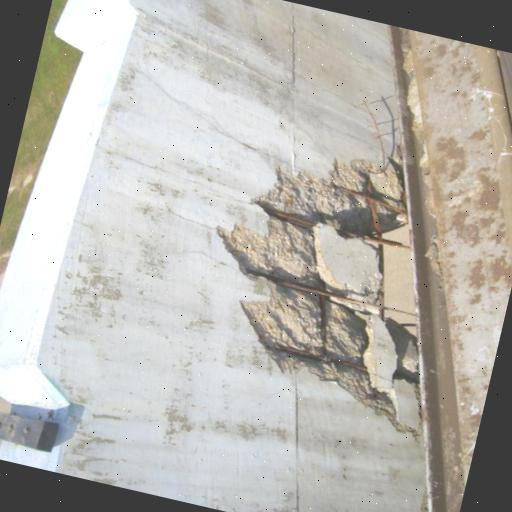spalling: (230, 161, 424, 432)
